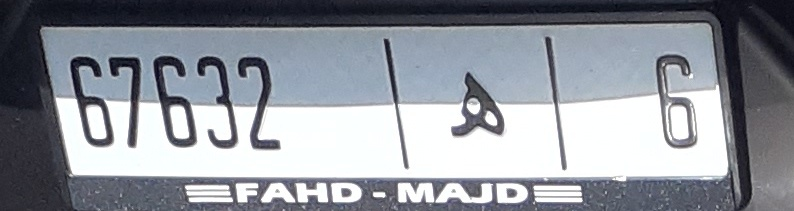2: (232, 46, 292, 152)
3: (194, 50, 235, 153)
6: (638, 42, 705, 160), (61, 49, 118, 152), (151, 41, 201, 152)
7: (107, 42, 149, 153)
h: (437, 58, 509, 152)
